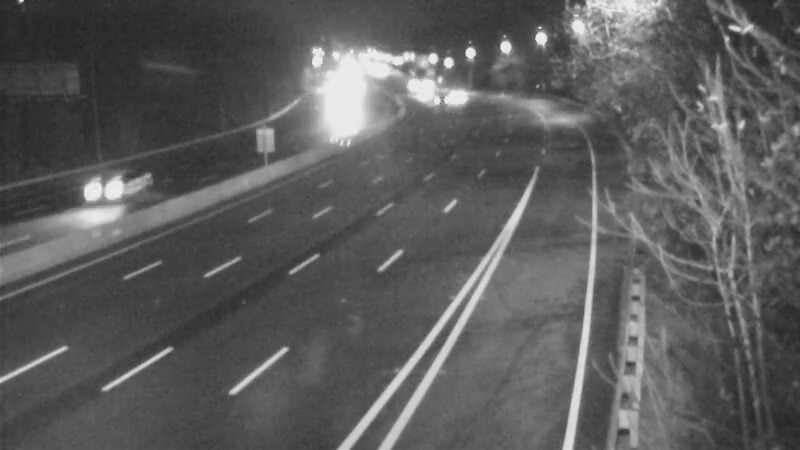vehicle: (64, 146, 144, 226), (431, 70, 481, 120), (408, 78, 458, 128)
